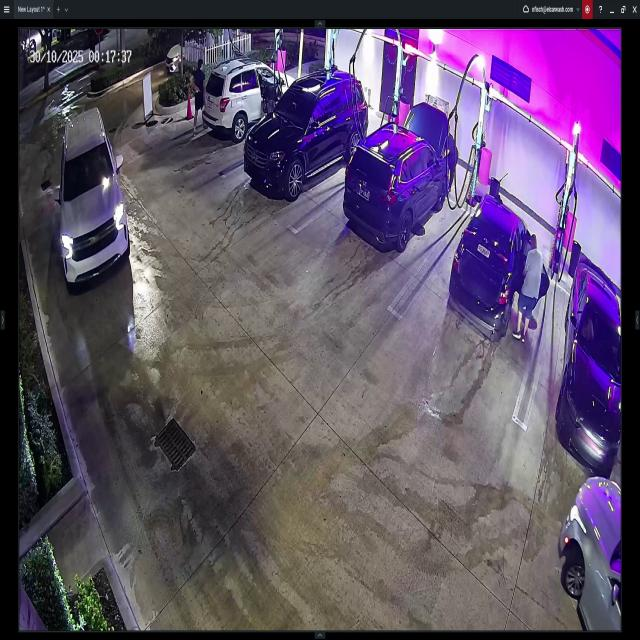Car: (348, 98, 450, 250), (248, 70, 366, 198), (452, 196, 546, 352), (561, 259, 623, 471), (59, 115, 128, 289), (561, 476, 622, 634), (208, 49, 296, 142)
